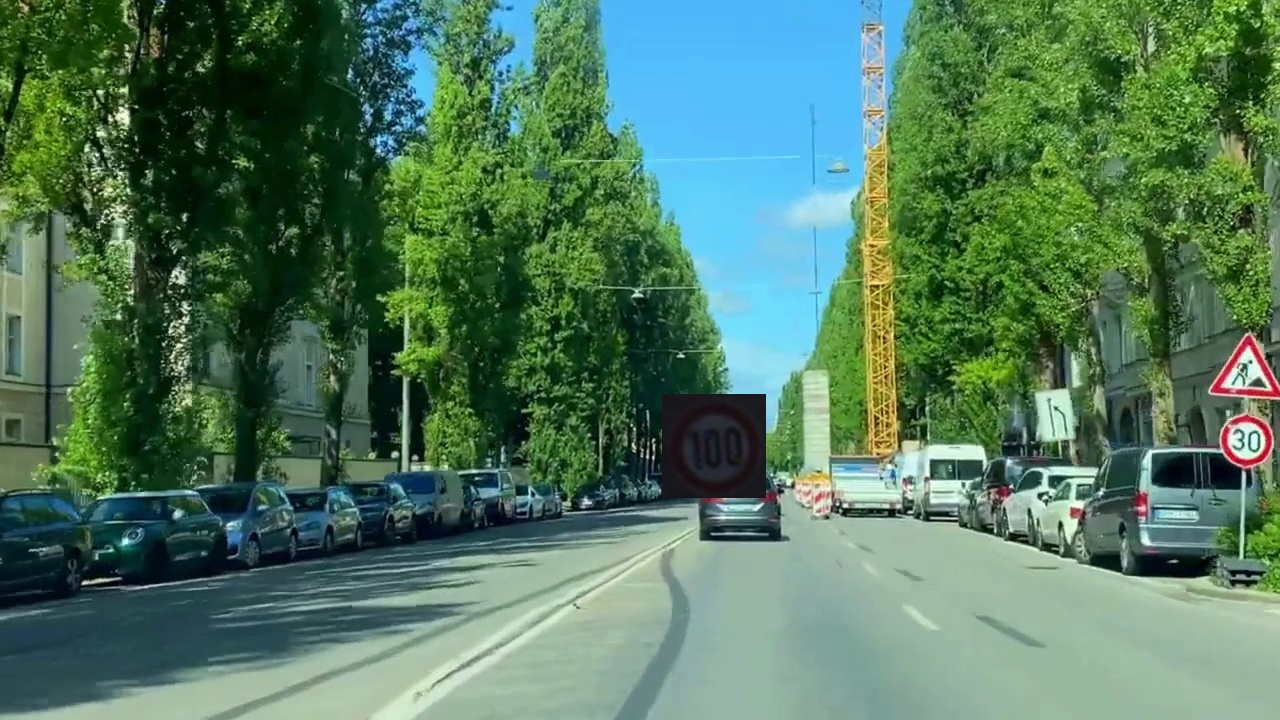Speed 100: (662, 394, 766, 498)
